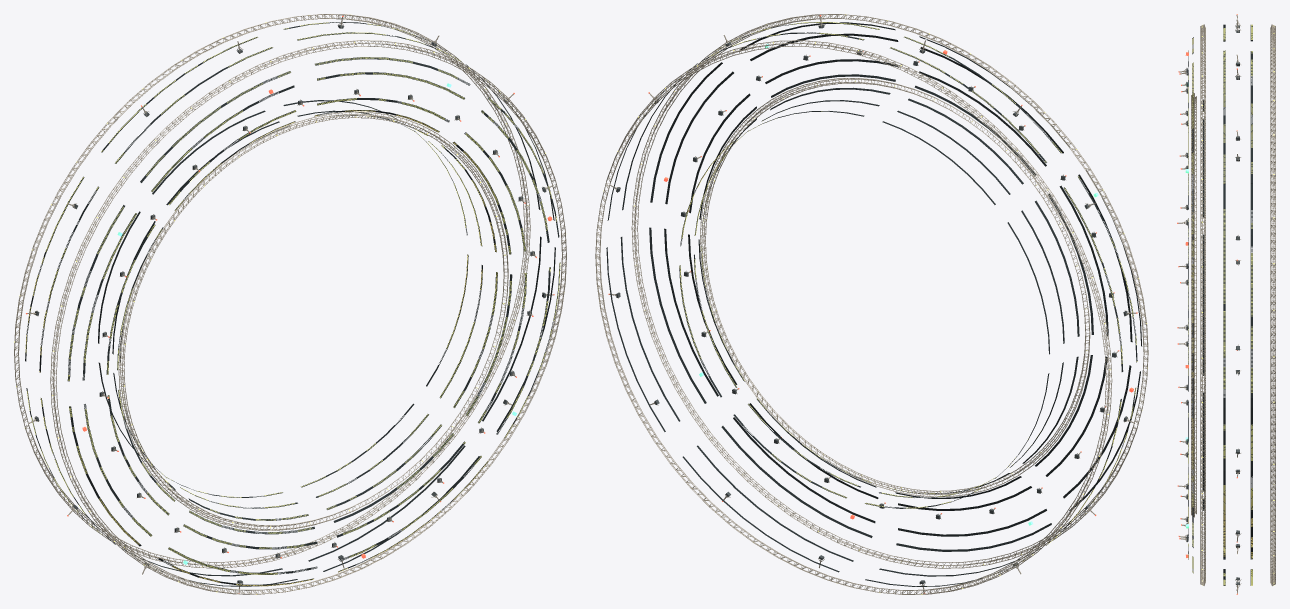
File: trade-ring-detail.glb
3 renders of one model, left to right at view 1: azimuth 30°, elevation 25°; view 2: azimuth 150°, elevation 25°; view 3: azimuth 270°, elevation 25°, orthographic. The views are drawn at different scales.
Parts seen in each view (by area): view 1: scale-detail/truss-paint, scale-detail/recess-black, scale-detail/amber-lamp, scale-detail/work-flood, scale-detail/dark-structure; view 2: scale-detail/truss-paint, scale-detail/recess-black, scale-detail/amber-lamp, scale-detail/dark-structure; view 3: scale-detail/truss-paint, scale-detail/recess-black, scale-detail/amber-lamp, scale-detail/dark-structure, scale-detail/work-flood.
Part boxes in pixels (box(x1,y1,x2,y2)): scale-detail/truss-paint: box(14, 14, 566, 594); scale-detail/recess-black: box(25, 22, 560, 586); scale-detail/amber-lamp: box(14, 14, 564, 594); scale-detail/work-flood: box(26, 22, 554, 575); scale-detail/dark-structure: box(34, 25, 546, 583); scale-detail/truss-paint: box(595, 14, 1148, 594); scale-detail/recess-black: box(606, 22, 1142, 586); scale-detail/amber-lamp: box(603, 14, 1147, 594); scale-detail/dark-structure: box(616, 25, 1127, 584); scale-detail/truss-paint: box(1178, 15, 1275, 593); scale-detail/recess-black: box(1188, 24, 1252, 585); scale-detail/amber-lamp: box(1188, 24, 1274, 585); scale-detail/dark-structure: box(1186, 25, 1239, 584); scale-detail/work-flood: box(1188, 18, 1252, 591).
Bounding box in the file's own units: 1362 × 1368 × 234.
